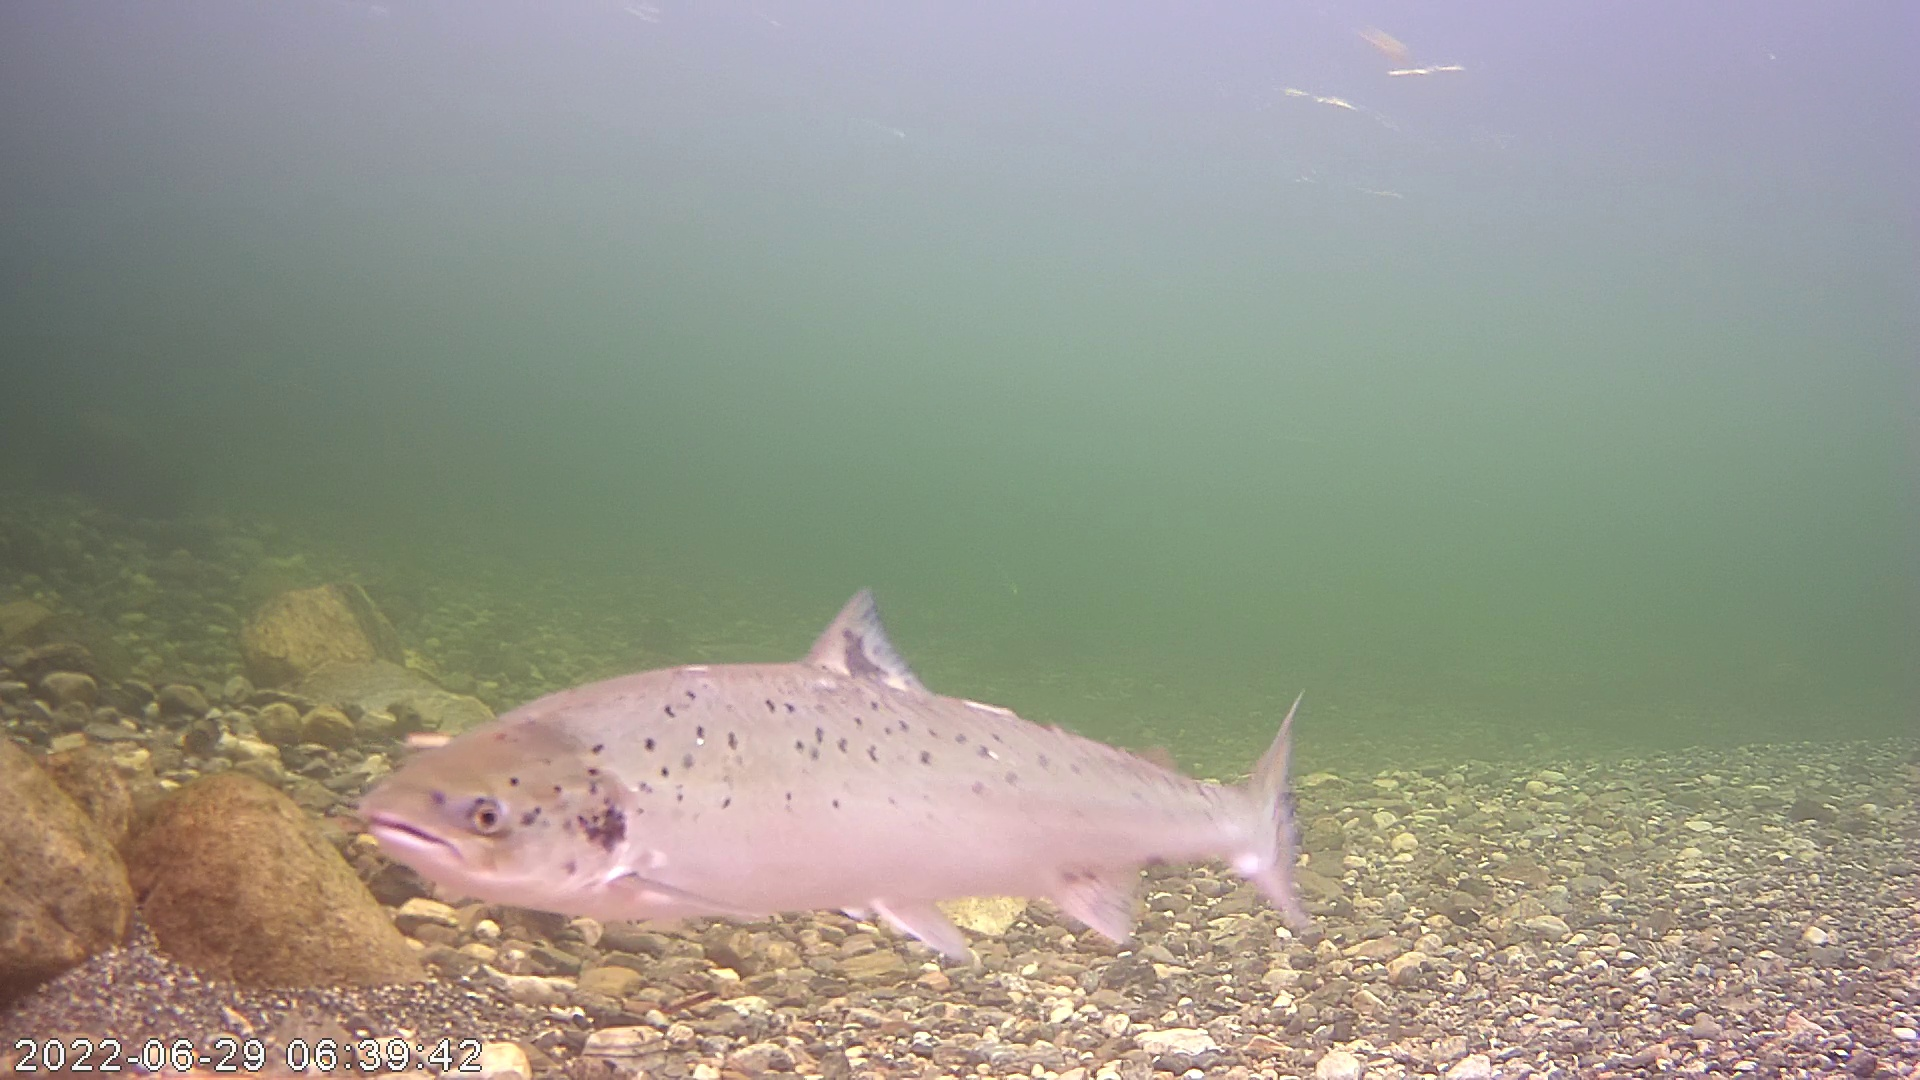salmon: (396, 543, 1323, 967)
